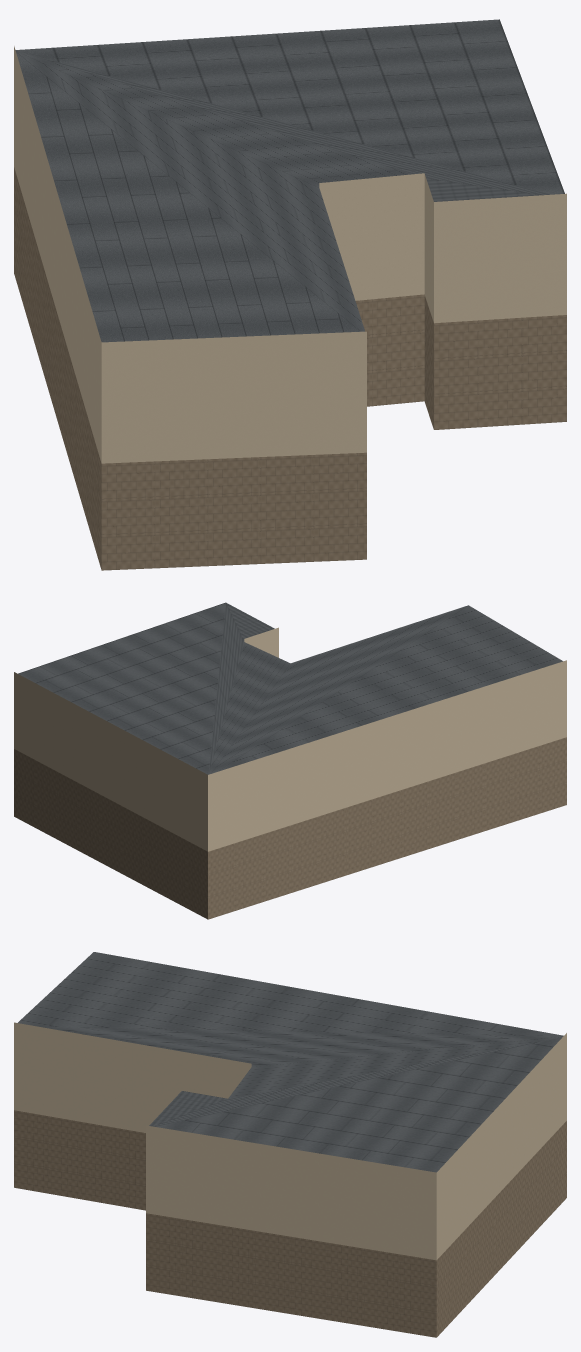
File: core_0014.gltf
3 views of the same model, one above another, from view 1: azimuth 30°, elevation 25°; view 2: azimuth 150°, elevation 25°; view 3: azimuth 270°, elevation 25° (orthographic). The views are drawn at different scales.
Visible parts, largest first — view 1: core_0014; view 2: core_0014; view 3: core_0014.
Part boxes in pixels (x1,y1,x2,y2): core_0014: (14,19,566,570); core_0014: (14,602,566,919); core_0014: (14,952,566,1337).
Bounding box in the file's own units: 31.68 × 10.88 × 32.99.
Materials: 3 (3 with a texture image).
